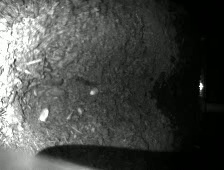corn: (38, 108, 49, 122), (89, 87, 98, 96), (66, 111, 73, 120), (77, 107, 83, 115)
